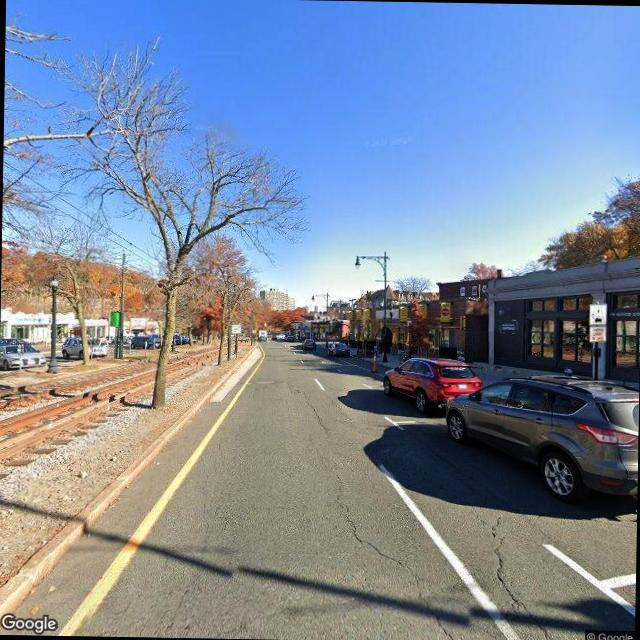pothole: (327, 474, 474, 640), (466, 494, 558, 634), (291, 384, 332, 438)
